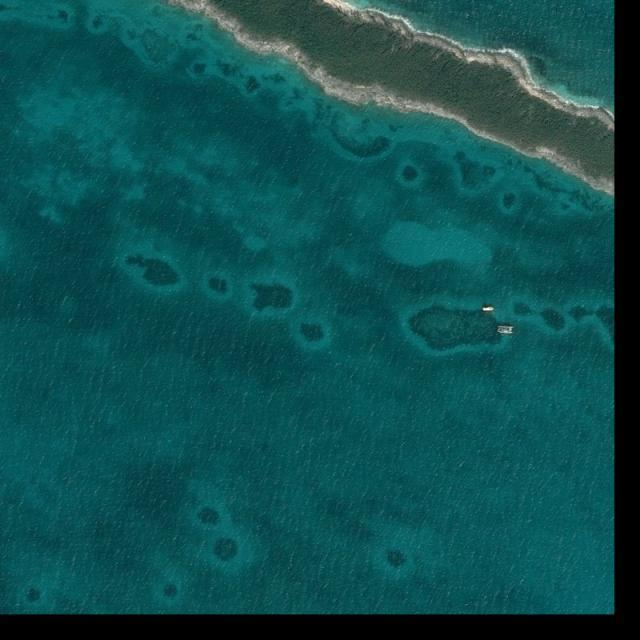ship: (496, 323, 514, 335), (482, 306, 494, 312)
